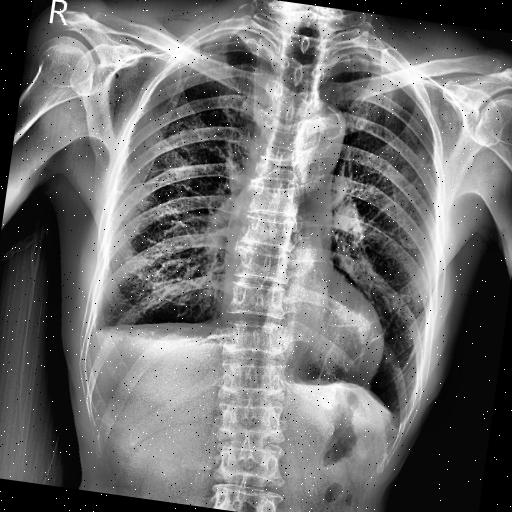0- Aortic enlargement: (294, 97, 350, 158)
10- Pleural effusion: (85, 306, 226, 382), (82, 316, 107, 352), (84, 304, 104, 344), (389, 414, 405, 440)
11- Pleural thickening: (184, 21, 280, 68), (190, 21, 280, 62), (328, 42, 414, 84), (327, 42, 414, 82), (186, 18, 266, 60), (82, 316, 107, 352), (84, 304, 104, 344), (386, 412, 405, 438), (389, 414, 405, 440)
13- Pulmonary fibrosis: (316, 293, 404, 392), (329, 183, 347, 208), (421, 164, 432, 169)
2- Calcification: (323, 106, 346, 140)
3- Cardiomegaly: (210, 286, 390, 390)
9- Other lesion: (95, 304, 225, 350)
